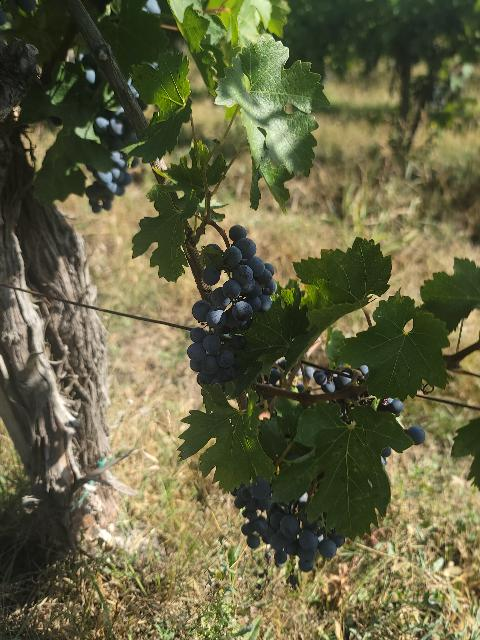grapes: (188, 226, 276, 388)
